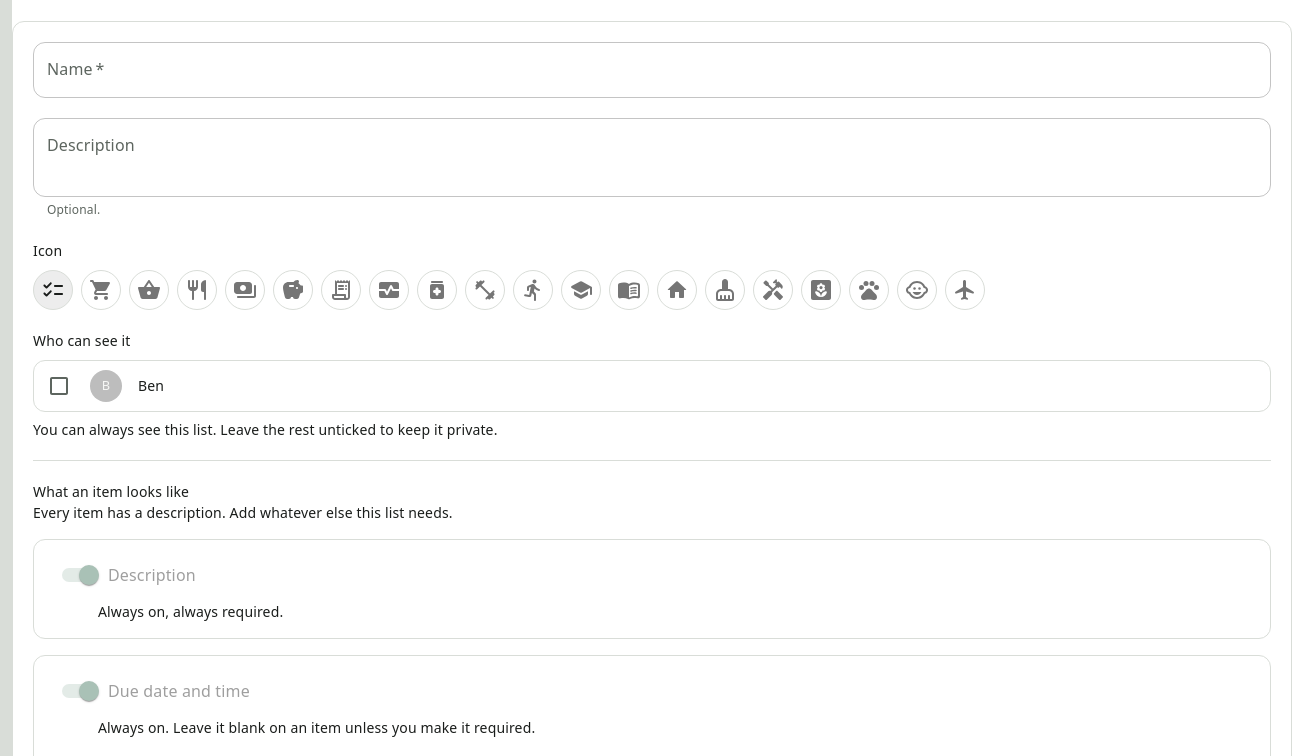
CreateListPage › surfaces the server wording when the name is already used
Type "Groceries" into the field labelled "Name" at {"x": 652, "y": 70}, box x1=33 y1=42 x2=1271 y2=98
(page scrolled)
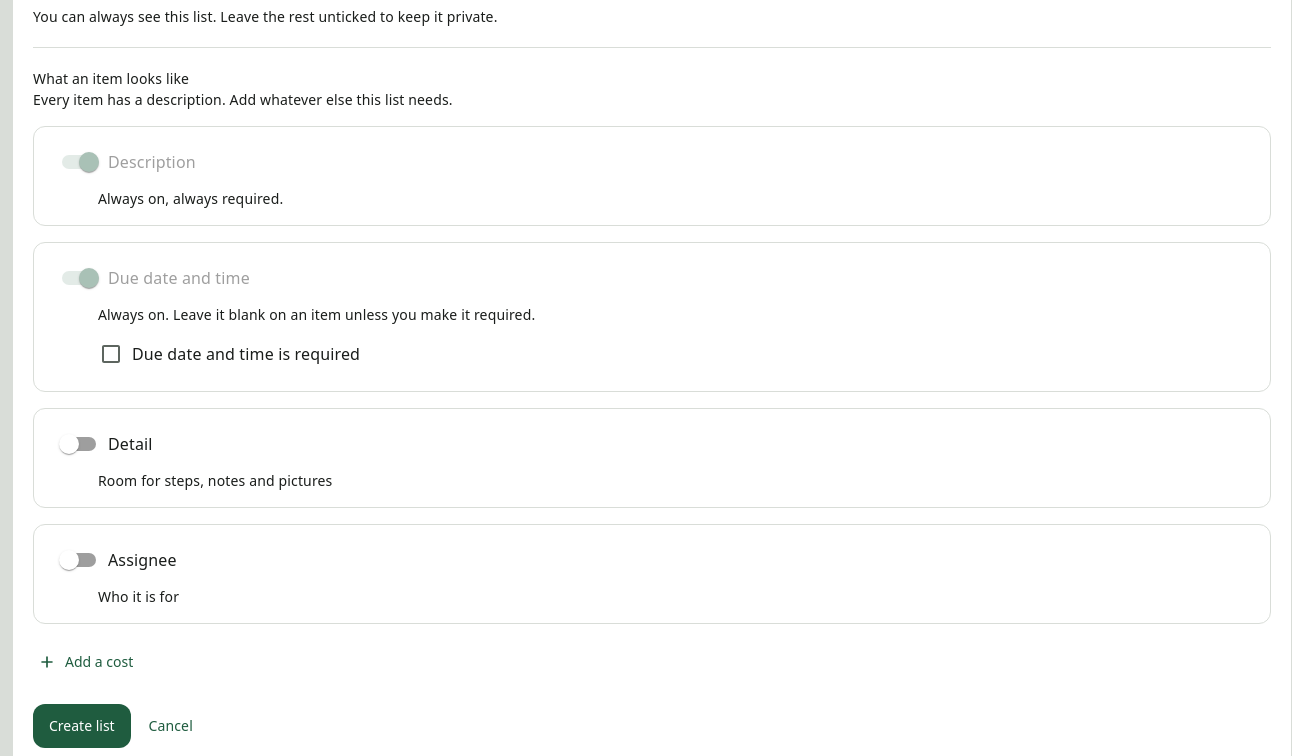
Click the button "Create list" at {"x": 82, "y": 726}, box x1=33 y1=704 x2=131 y2=748
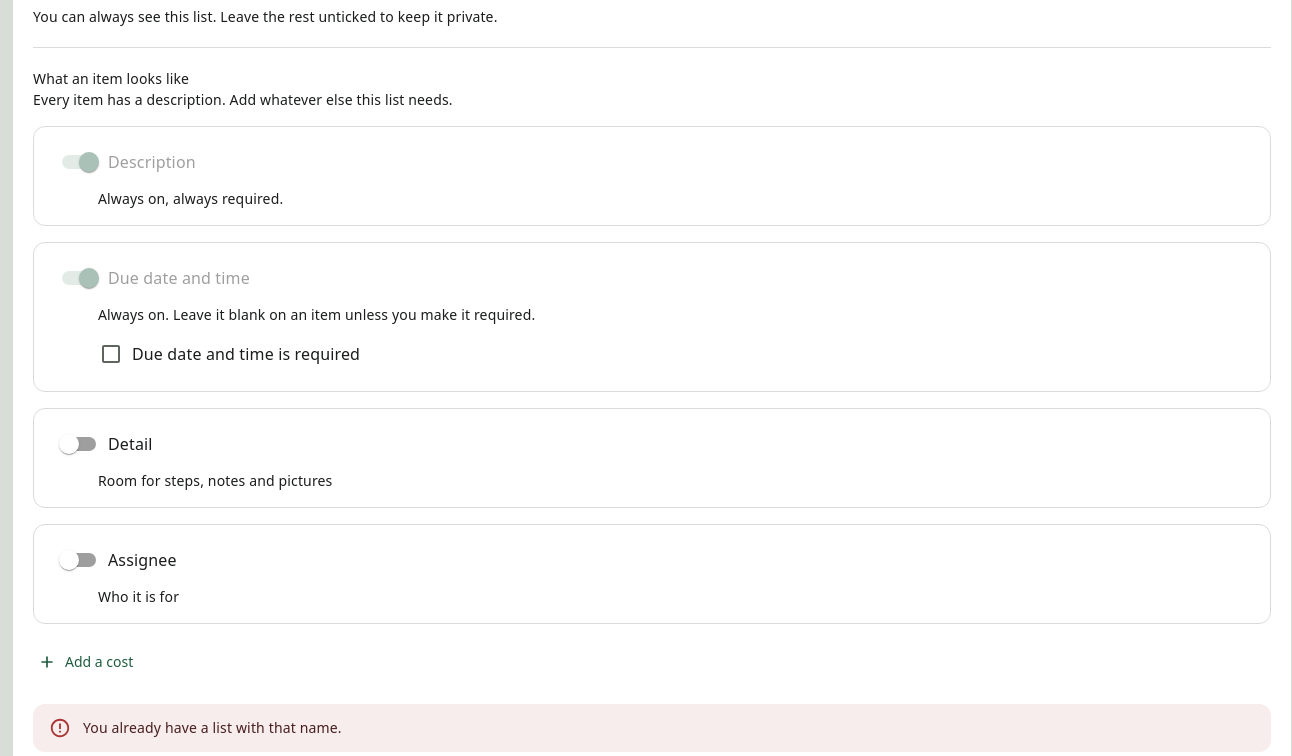
Now the message reads "You already have a list with that name.", box x1=83 y1=718 x2=342 y2=737
